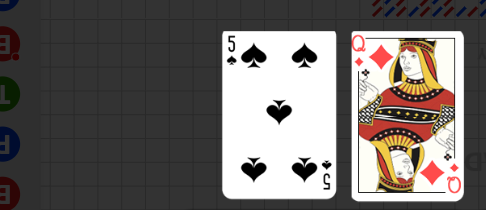5S: (320, 158, 332, 191), (226, 34, 238, 67)
QD: (364, 31, 408, 78), (431, 152, 475, 198)
